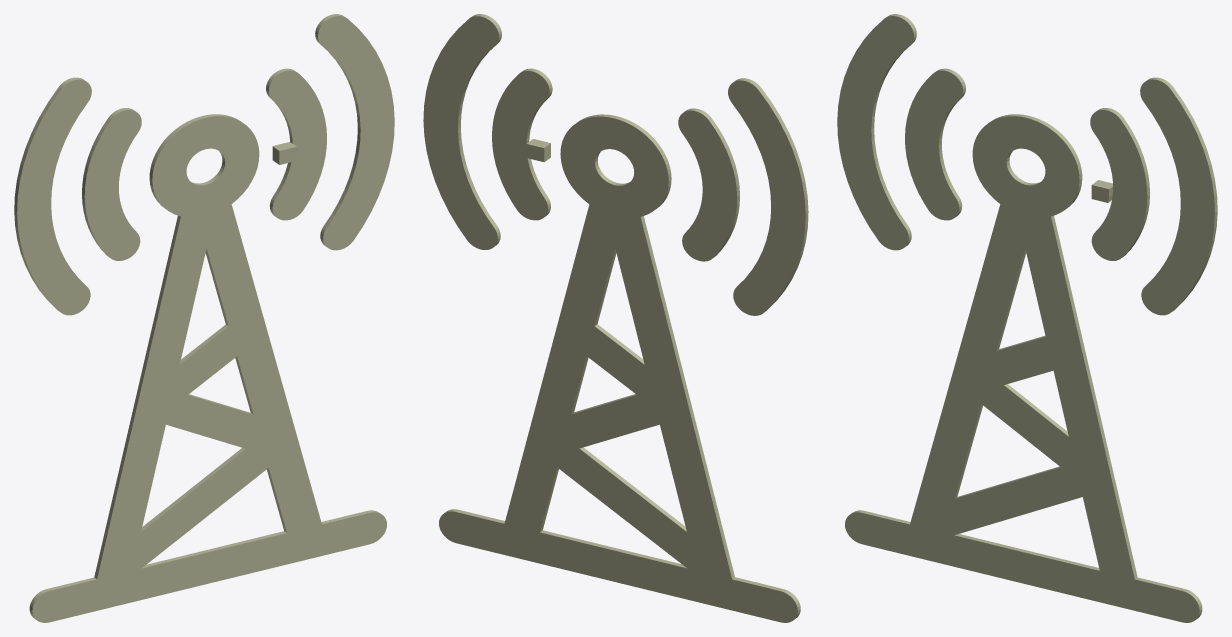
File: tinker.obj
3 views of the same model, side by side, from view 1: azimuth 30°, elevation 25°; view 2: azimuth 150°, elevation 25°; view 3: azimuth 330°, elevation 25° (orthographic).
Parts seen in each view (by area): view 1: obj_0; view 2: obj_0; view 3: obj_0.
Part boxes in pixels (left/top/right/bottom): obj_0: left=14, top=14, right=394, bottom=622; obj_0: left=423, top=14, right=808, bottom=622; obj_0: left=837, top=14, right=1217, bottom=622.
Bounding box in the file's own units: 115 × 155 × 4.2.
